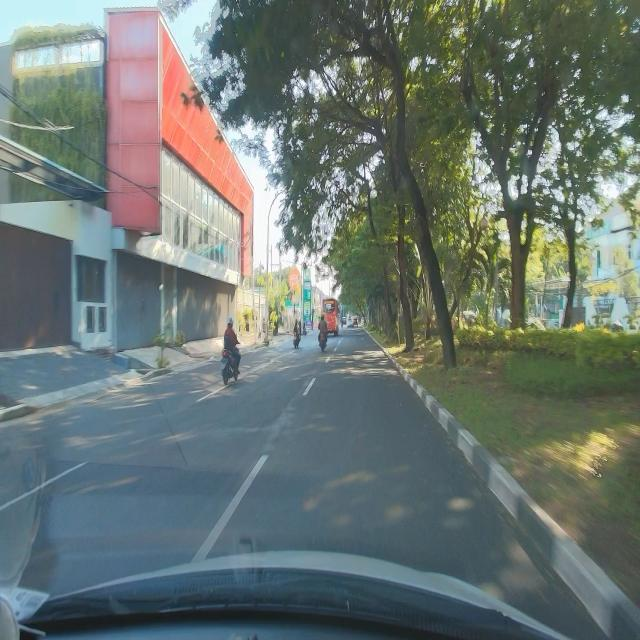bus: (322, 296, 339, 338)
